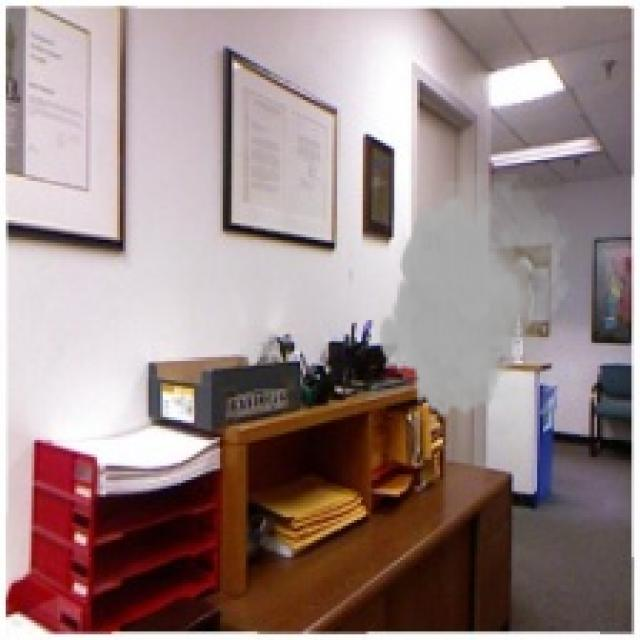smoke: (377, 174, 577, 423)
